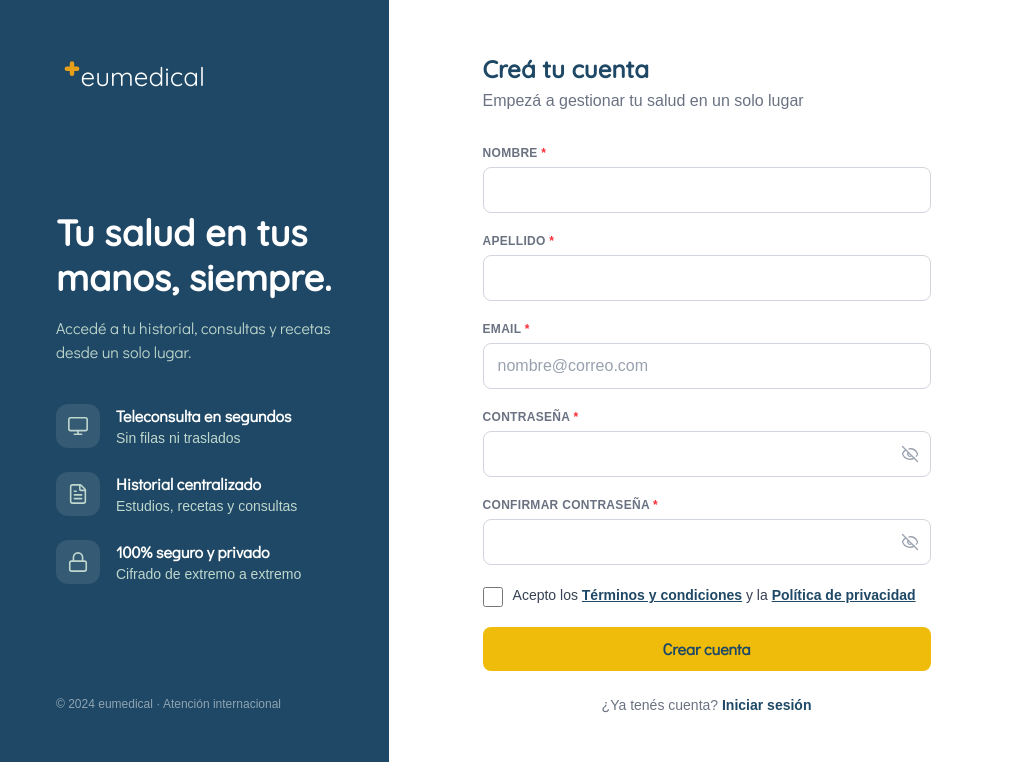
Test case: RegisterPage › rejects emails outside @gmail.com / @yahoo.com.ar
Type "María" into the field labelled "NOMBRE *" at coordinates (706, 190), box [482,167,930,213]
Type "González" into the field labelled "APELLIDO *" at coordinates (706, 278), box [482,255,930,301]
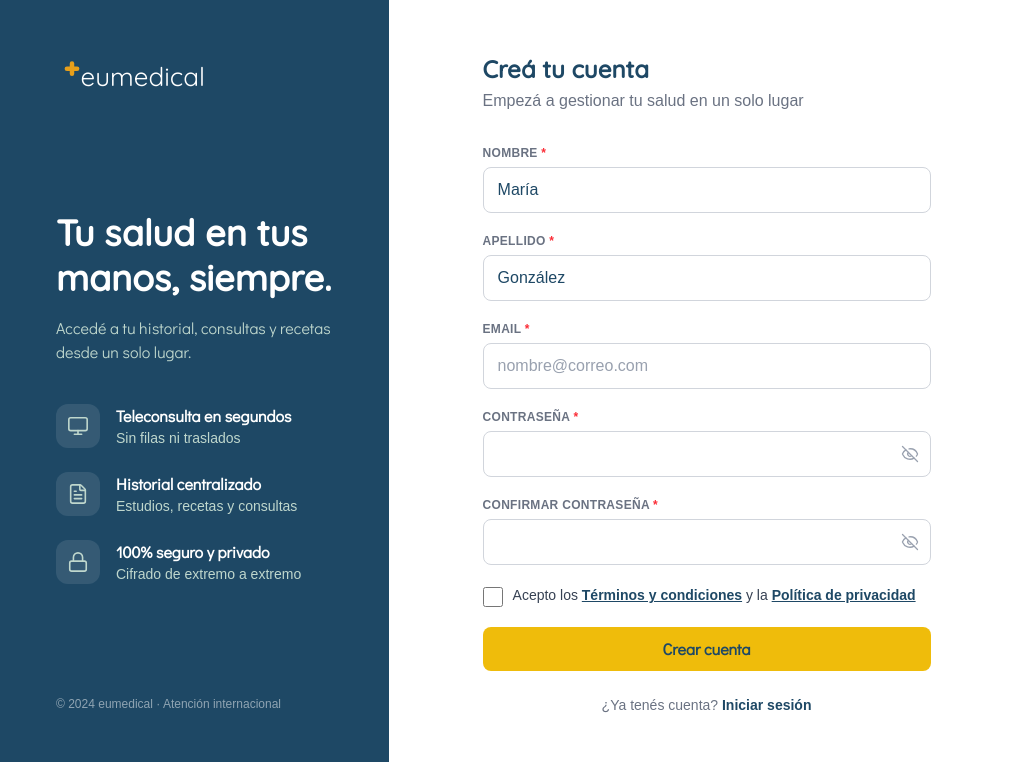
Type "maria@outlook.com" into the field labelled "EMAIL *" at coordinates (706, 366), box [482,343,930,389]
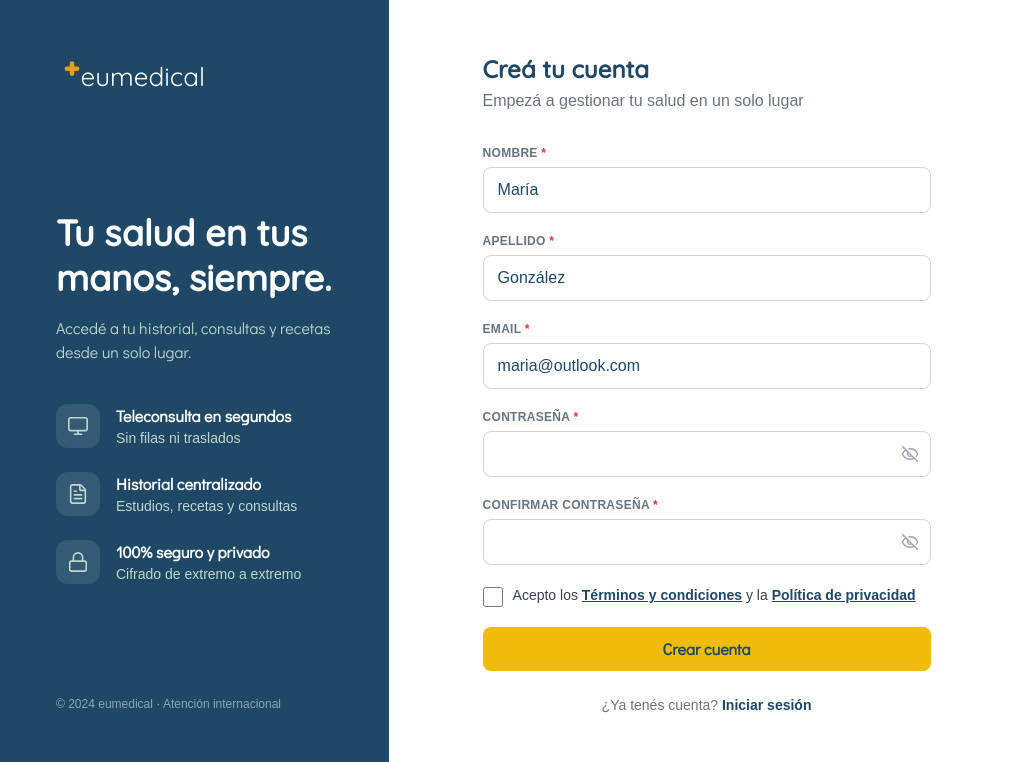
Type "secreta" into the password field labelled "CONTRASEÑA *" at coordinates (706, 454), box [482,431,930,477]
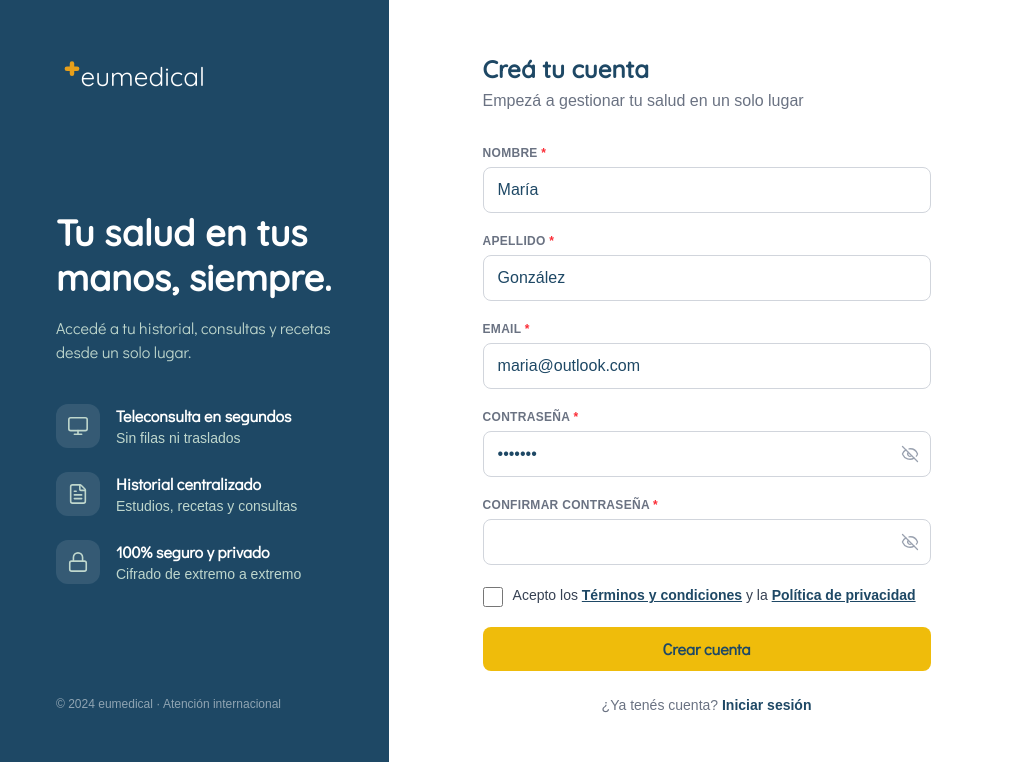
Type "secreta" into the password field labelled "CONFIRMAR CONTRASEÑA *" at coordinates (706, 542), box [482,519,930,565]
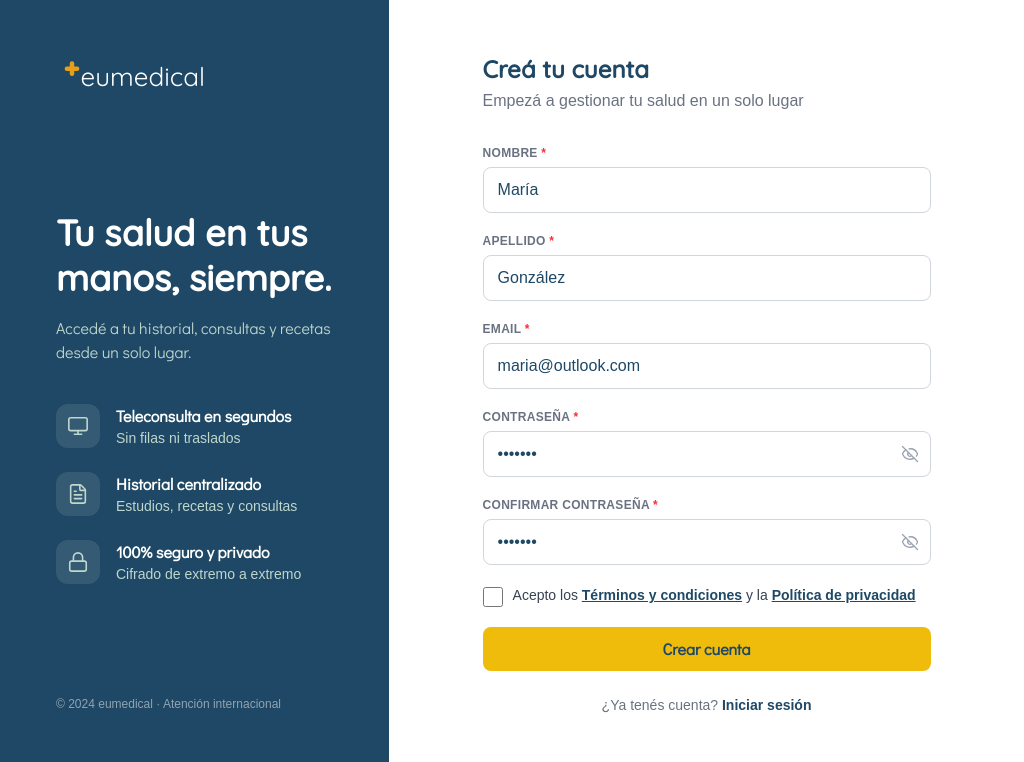
Click the checkbox at coordinates (492, 597), box [482,587,502,607]
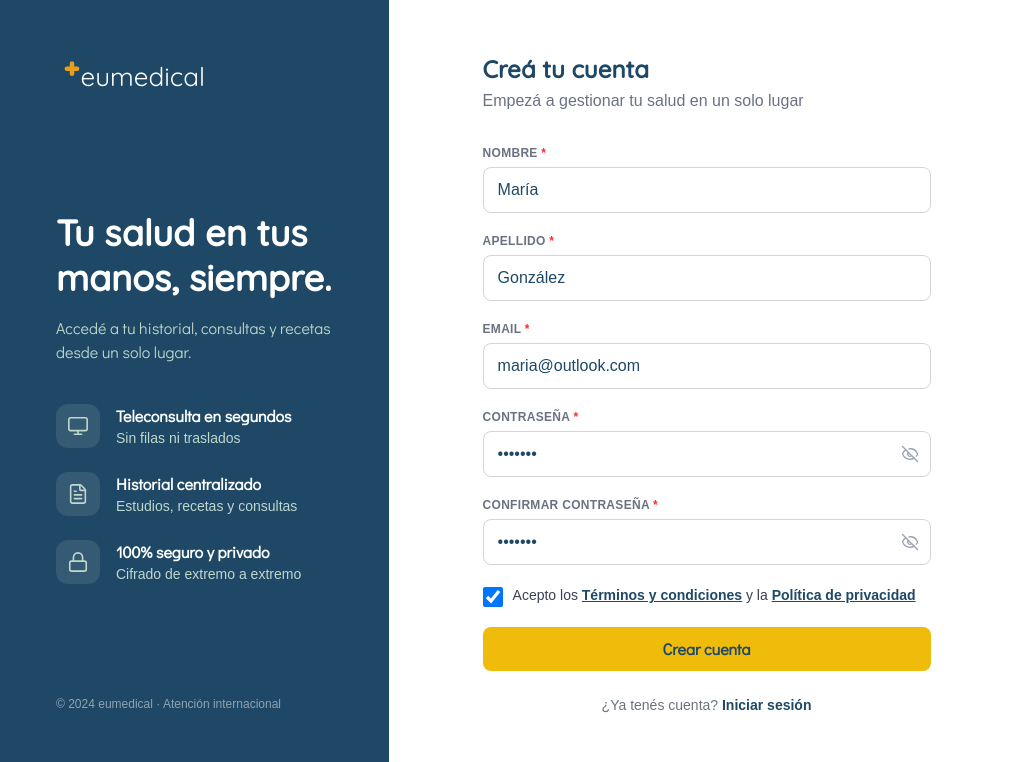
Click the button "Crear cuenta" at coordinates (706, 649), box [482,627,930,671]
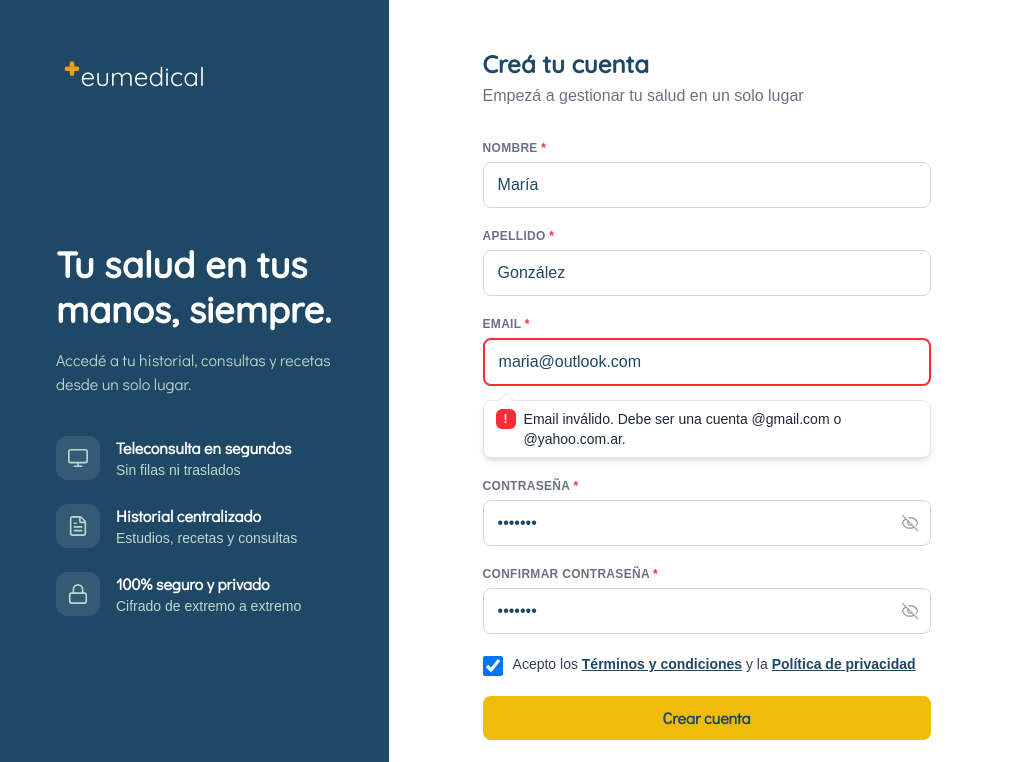
Result: the text "Email inválido. Debe ser una cuenta @gmail.com o @yahoo.com.ar." is shown at [524,411,841,447]
